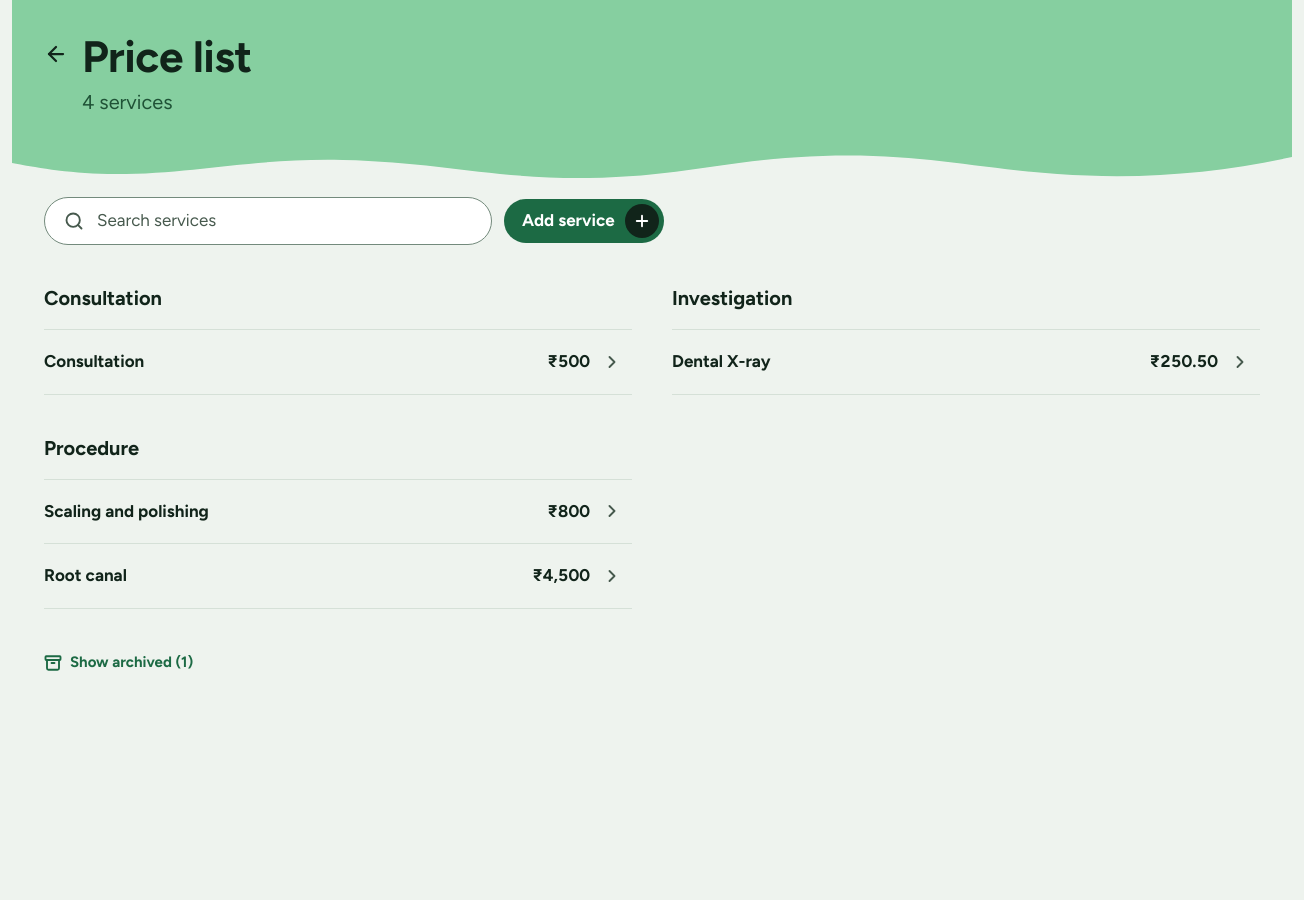
PriceList (plan §9, D82) › finds a service by name, whatever its case, and says when none matches
Type "ROOT" into the search field labelled "Search services" at (268, 221), box x1=44 y1=197 x2=492 y2=245
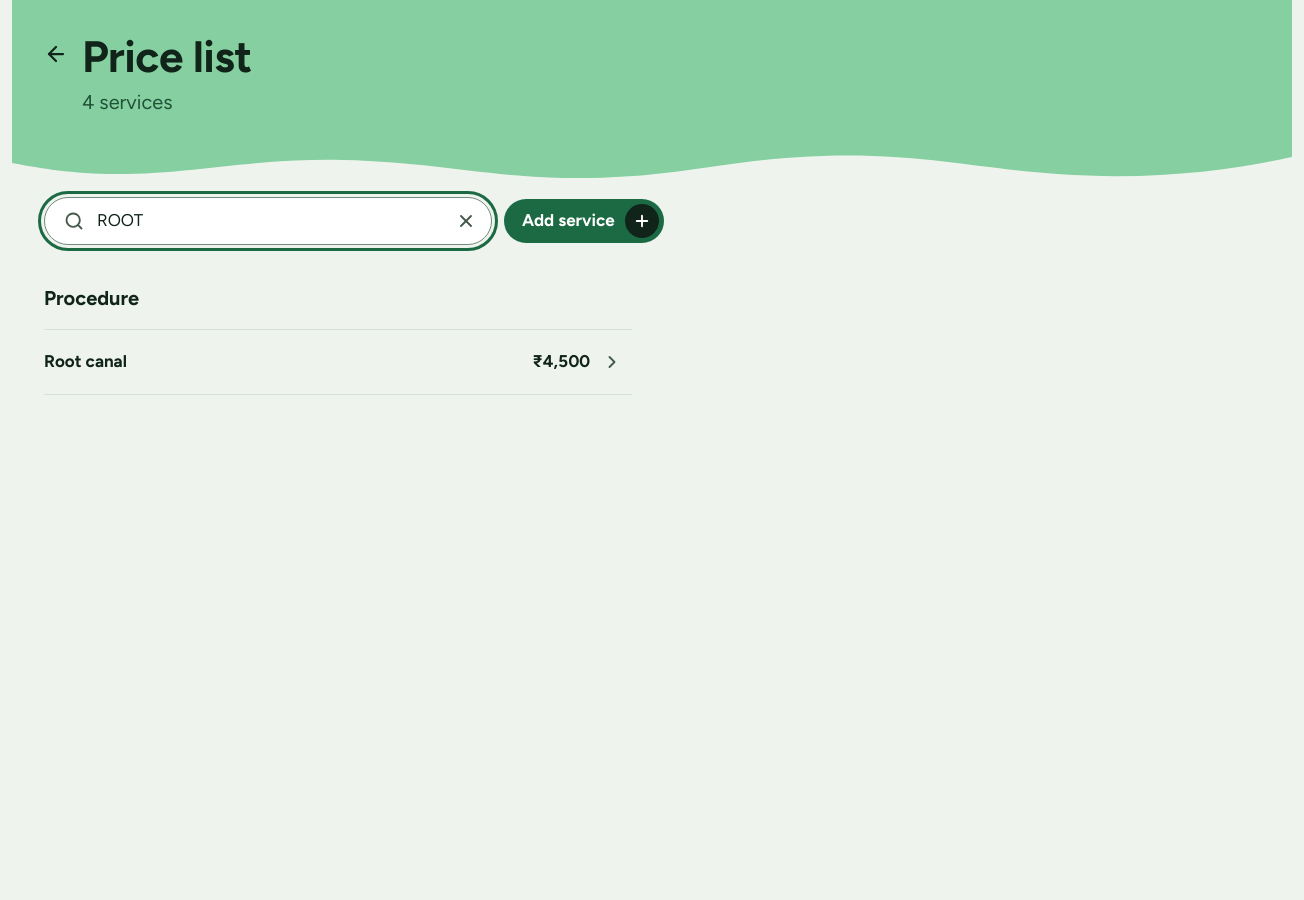
Expected: the headings read "Procedure", in this order, x1=44 y1=286 x2=139 y2=311
Expected: the element "Procedure" shows "Root canal", x1=44 y1=349 x2=520 y2=374
Replace the text in the search field with "  zirconia " at (268, 221), box x1=44 y1=197 x2=492 y2=245
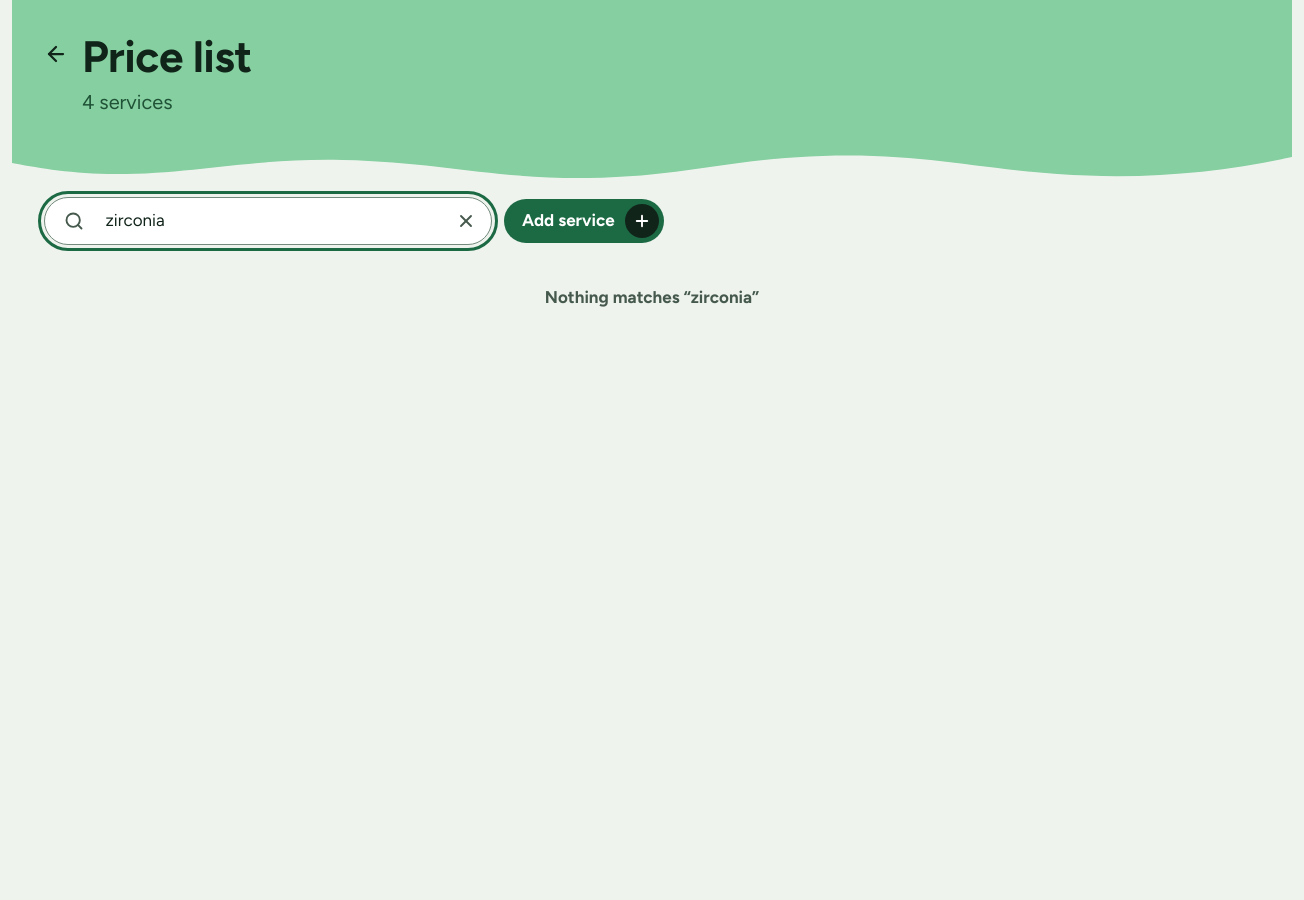
Expected: the text "Nothing matches “zirconia”" is shown, x1=545 y1=287 x2=759 y2=307
